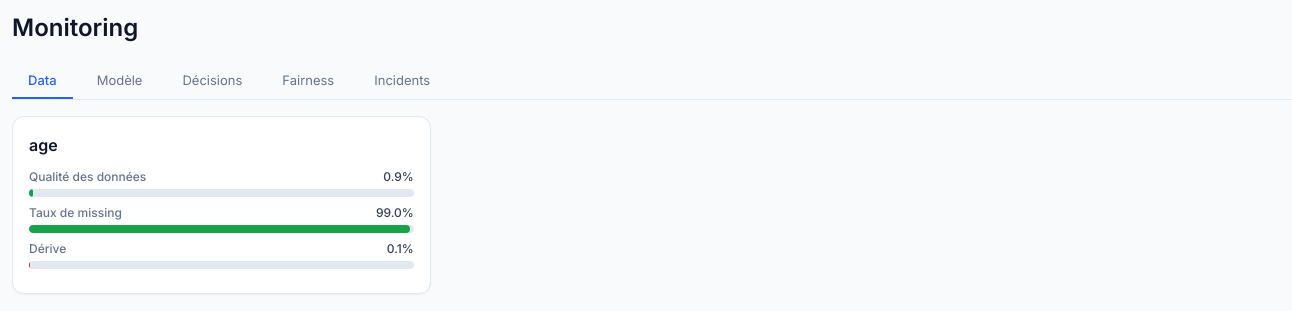
Test: MonitoringPage › shows fairness metrics per group
Click the tab "Fairness" at (308, 80), box x1=266 y1=60 x2=350 y2=99
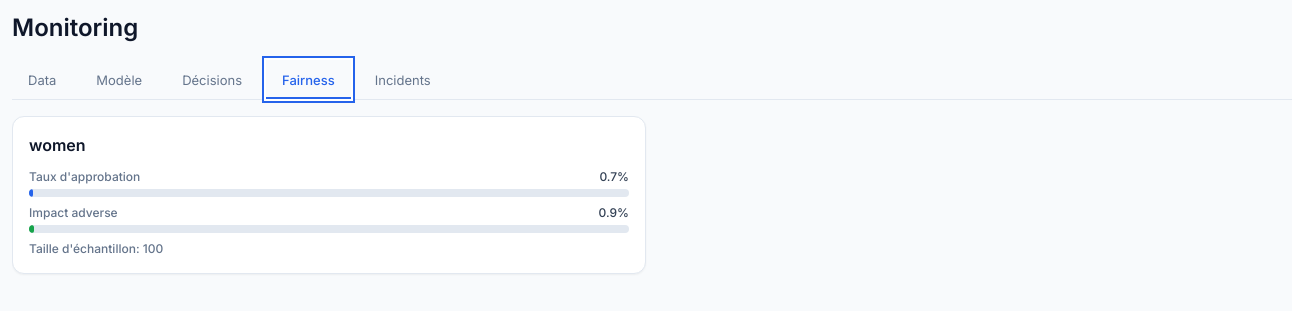
Expected: the text "Taux d'approbation" is shown, x1=29 y1=169 x2=140 y2=185
Expected: the text "Impact adverse" is shown, x1=29 y1=205 x2=118 y2=221
Expected: the text "Taille d'échantillon: 100" is shown, x1=29 y1=241 x2=163 y2=256
